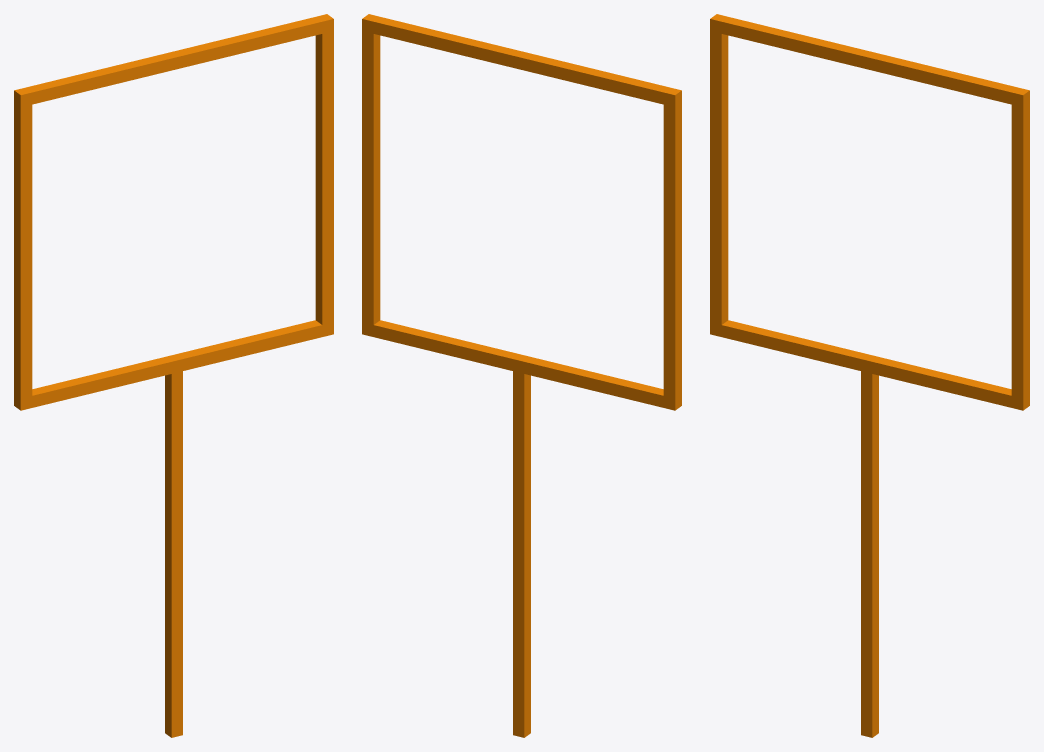
3 renders of one model, left to right at view 1: azimuth 30°, elevation 25°; view 2: azimuth 150°, elevation 25°; view 3: azimuth 330°, elevation 25°, orthographic.
Visible parts, largest first — view 1: group_0 (×2), group_1; view 2: group_0 (×2), group_1; view 3: group_0 (×2), group_1.
Boxes of the visible parts, x1,y1,x2,y2 form: group_0 (×2): (14,14,333,410); group_1: (165,371,182,737); group_0 (×2): (362,14,681,410); group_1: (513,371,530,737); group_0 (×2): (710,14,1029,410); group_1: (861,371,878,737).
Size of the model in its own units: 53.15 by 1.97 by 110.
